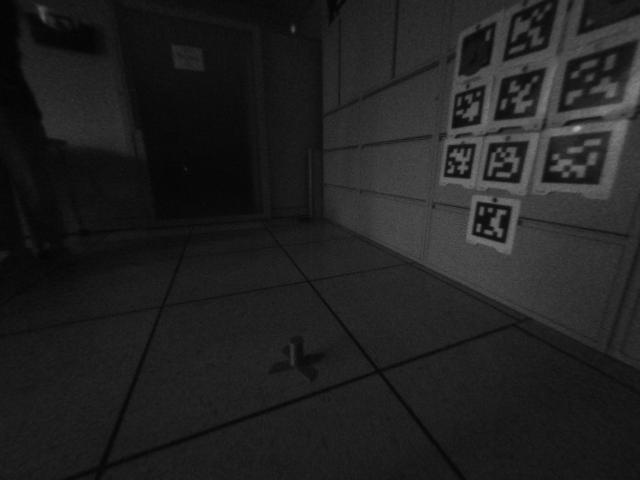x: (262, 334, 328, 379)
